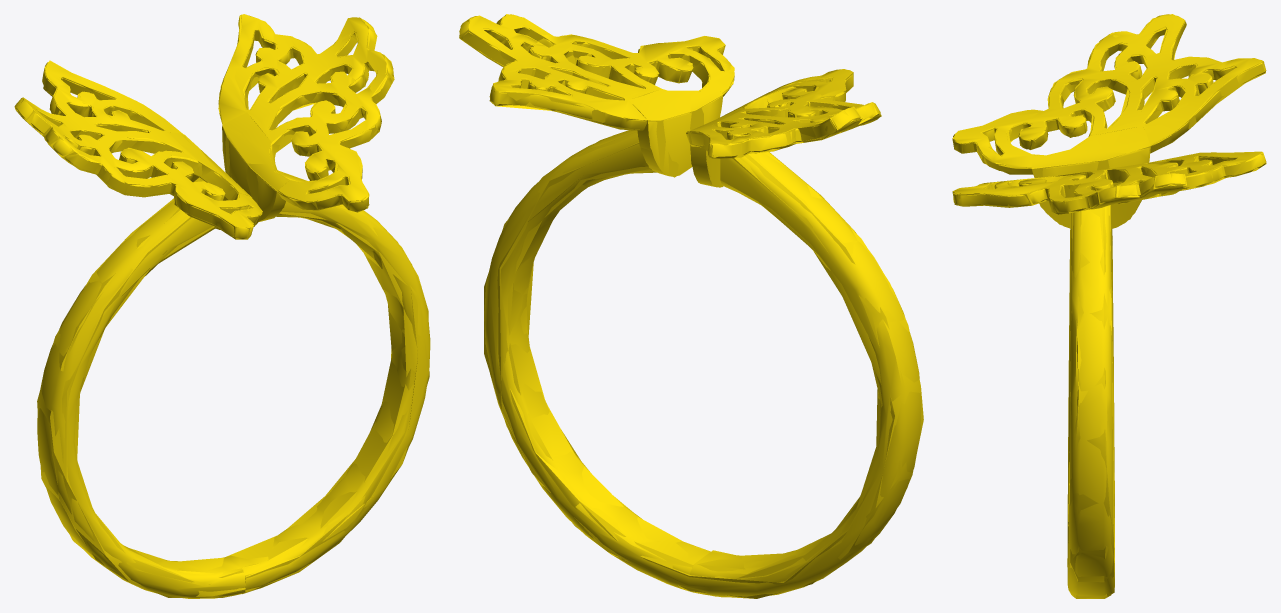
File: GLR-SAD0003038.glb
3 views of the same model, side by side, from view 1: azimuth 30°, elevation 25°; view 2: azimuth 150°, elevation 25°; view 3: azimuth 270°, elevation 25° (orthographic). The views are drawn at different scales.
Parts seen in each view (by area): view 1: highPolyMesh, lowPolyMesh; view 2: highPolyMesh, lowPolyMesh; view 3: highPolyMesh, lowPolyMesh.
Boxes of the visible parts, x1=… form: highPolyMesh: x1=14, y1=14, x2=430, y2=598; lowPolyMesh: x1=16, y1=14, x2=429, y2=597; highPolyMesh: x1=459, y1=14, x2=921, y2=597; lowPolyMesh: x1=459, y1=14, x2=923, y2=598; highPolyMesh: x1=953, y1=14, x2=1266, y2=598; lowPolyMesh: x1=952, y1=14, x2=1266, y2=598.
Bounding box in the file's own units: 0.0198 × 0.0248 × 0.0145.
